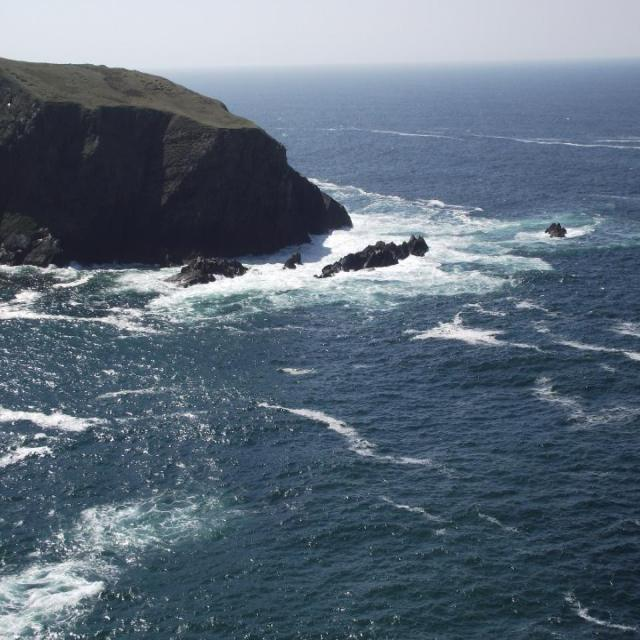island: (0, 46, 353, 268)
